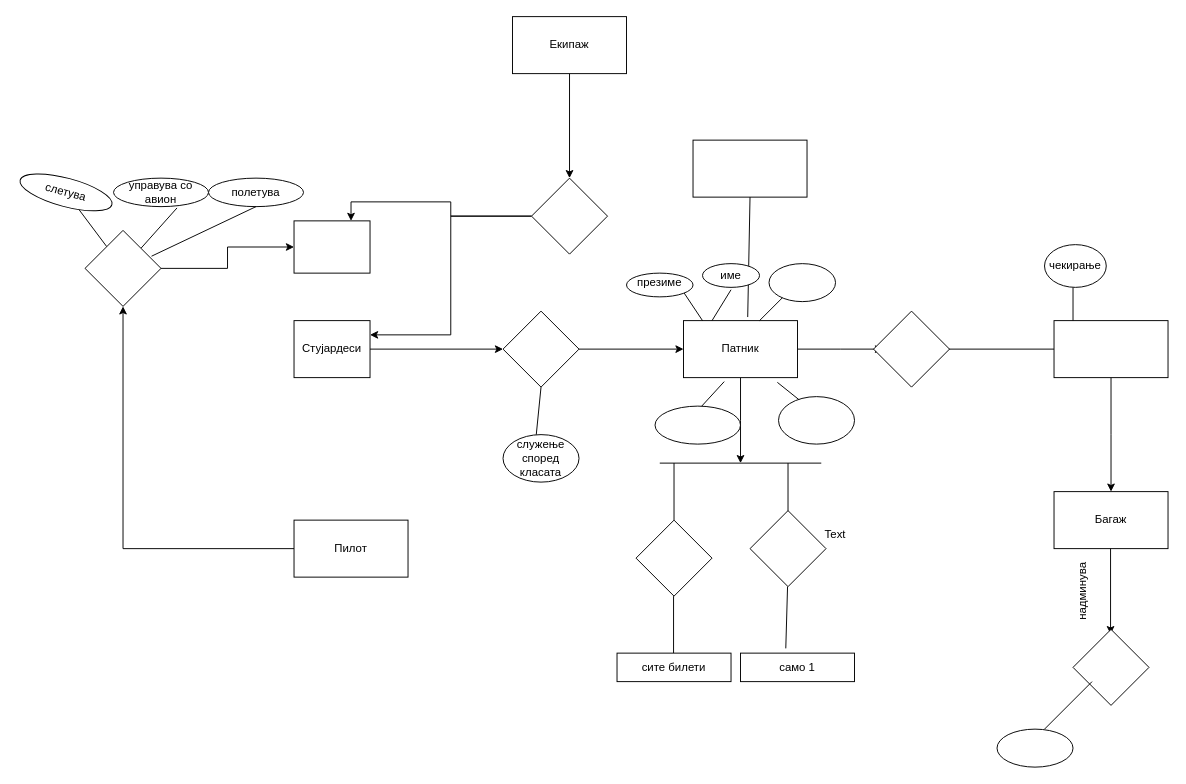
Some shapes in this 1186 by 784 pixel diagram are drawn without their labels. The shapes that lost their labels are listed below. From the top down, each one's centre as x and y in pixels, then its label:
the point at 749,168: Шалтерски работник
the point at 331,246: Авион
the point at 802,282: бр.лична карта
the point at 1110,349: Вработени
the point at 697,424: почетна дестинација
the point at 816,420: крајна дестинација
the point at 1034,747: наплата
